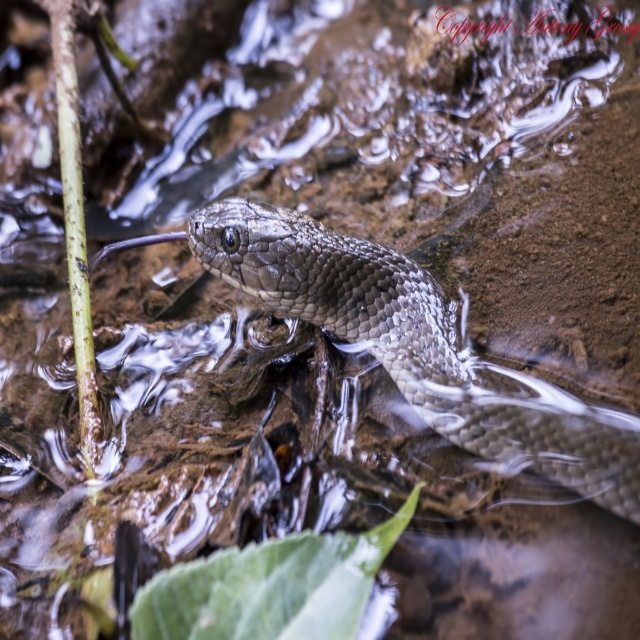Snake: (94, 194, 640, 533)
